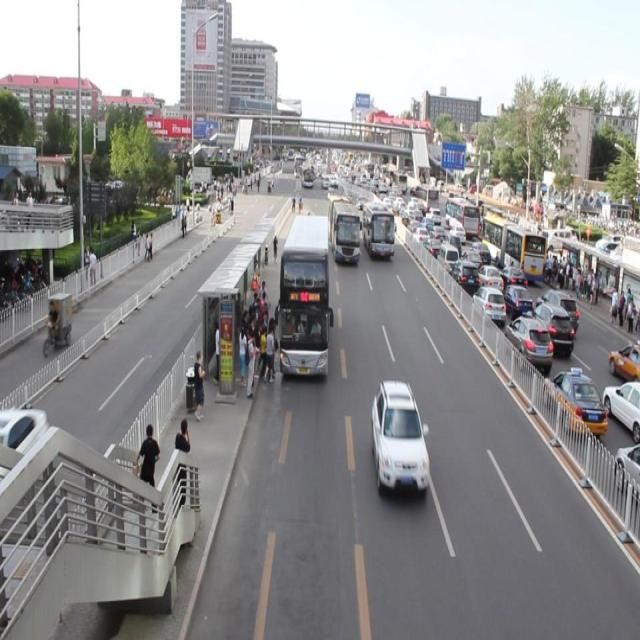car: (371, 379, 429, 496)
van: (280, 216, 328, 376), (328, 197, 358, 266), (362, 200, 394, 260)
